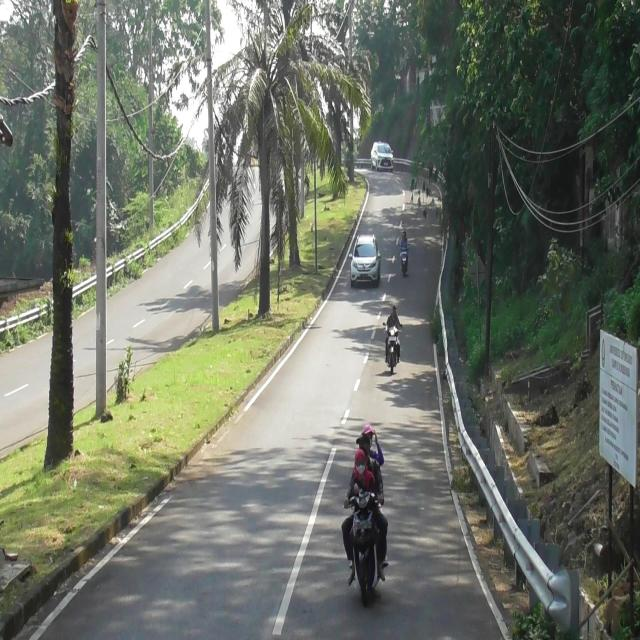motorcycle: (345, 493, 386, 602), (386, 325, 400, 375), (400, 246, 410, 277)
person: (344, 434, 384, 504), (361, 425, 385, 466), (351, 448, 370, 494), (386, 305, 401, 331), (400, 230, 409, 252)
rider_region: (342, 424, 388, 606), (386, 300, 404, 377), (400, 230, 410, 276)
